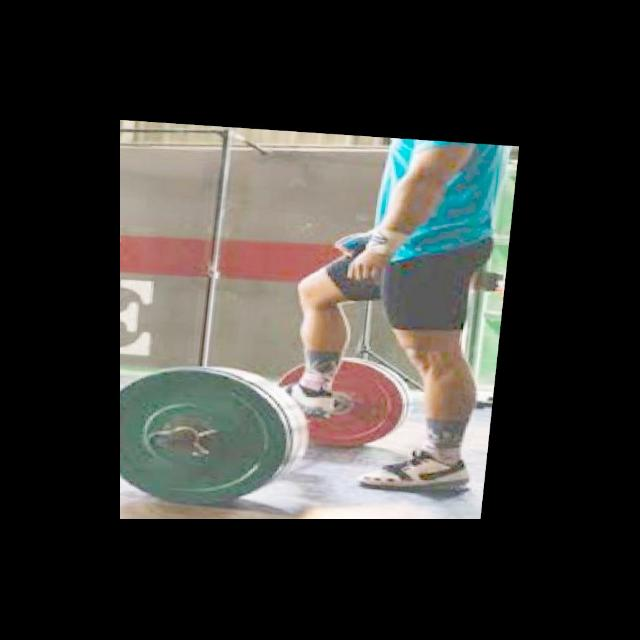barbell: (120, 356, 303, 514)
